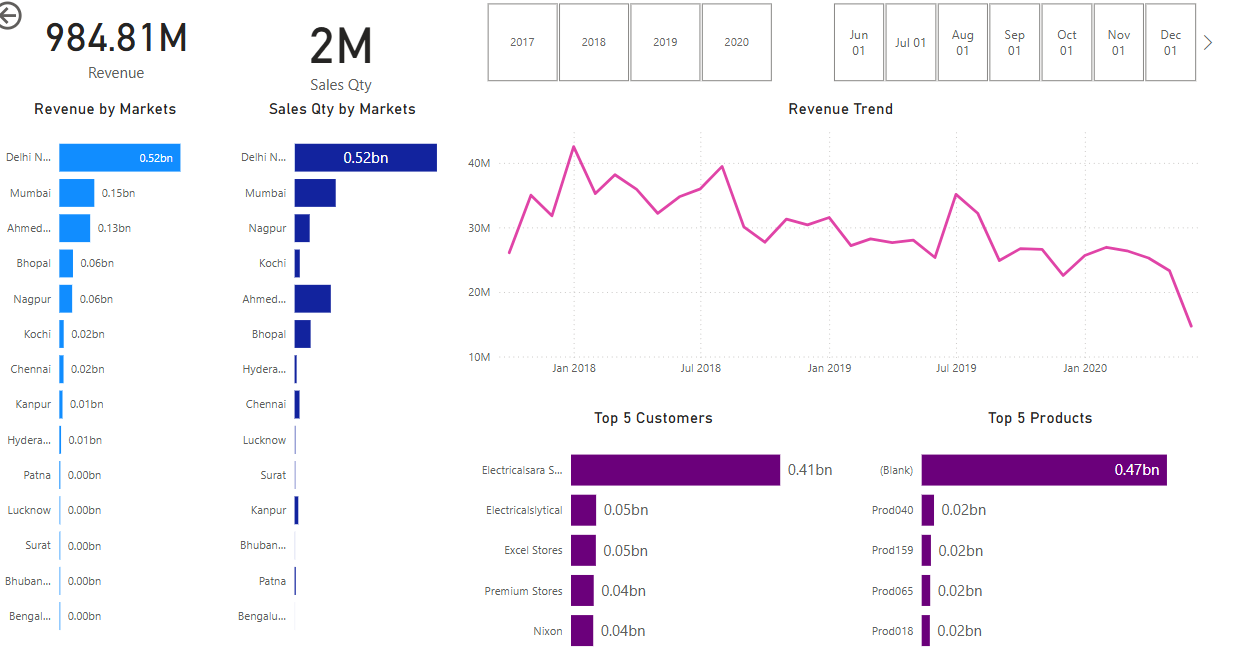

Layout of this report page (visuals, bound fields, positions):
{"tool":"powerbi","page":{"name":"Page 1","canvas":[1350,717],"ordinal":0},"visuals":[{"type":"card","fields":{"Values":["BaseMeasures.Revenue"]},"box":[0,0,271.4,97.1],"z":0},{"type":"card","fields":{"Values":["BaseMeasures.Sales Qty"]},"box":[246.7,0,258.3,110],"z":1000},{"type":"barChart","title":"Revenue by Markets","fields":{"Y":["BaseMeasures.Revenue"],"Category":["sales markets.markets_name"]},"box":[0,122,249,574.3],"z":2000},{"type":"barChart","title":"Sales Qty by Markets","fields":{"Y":["BaseMeasures.Sales Qty","BaseMeasures.Revenue"],"Category":["sales markets.markets_name"]},"box":[247.3,122,257.5,572.6],"z":3000},{"type":"actionButton","box":[0,0,100,40],"z":4000},{"type":"slicer","fields":{"Values":["sales date.cy_date"]},"box":[913.1,5.1,394.7,71.2],"z":5000},{"type":"slicer","fields":{"Values":["sales date.year"]},"box":[525.2,5.1,388,71.2],"z":6000},{"type":"barChart","title":"Top 5 Customers","fields":{"Y":["BaseMeasures.Revenue"],"Category":["sales customers.custmer_name"]},"box":[506.7,440,406.7,276.7],"z":7000},{"type":"barChart","title":"Top 5 Products","fields":{"Y":["BaseMeasures.Revenue"],"Category":["sales products.product_code"]},"box":[933.5,440.5,379.5,276.1],"z":8000},{"type":"lineChart","title":"Revenue Trend","fields":{"Y":["BaseMeasures.Revenue"],"Category":["sales date.cy_date"]},"box":[506.6,96.6,806.4,304.9],"z":9000}]}

Visuals, with their boxes in screenshot pixels (x1, y1, x2, y2), scaled from the page's 1350x717 canvas onto the 1245x649 screenshot:
card - BaseMeasures.Revenue: bbox=(0, 0, 250, 88)
card - BaseMeasures.Sales Qty: bbox=(228, 0, 466, 100)
"Revenue by Markets" barChart: bbox=(0, 110, 230, 630)
"Sales Qty by Markets" barChart: bbox=(228, 110, 466, 629)
actionButton: bbox=(0, 0, 92, 36)
slicer - sales date.cy_date: bbox=(842, 5, 1206, 69)
slicer - sales date.year: bbox=(484, 5, 842, 69)
"Top 5 Customers" barChart: bbox=(467, 398, 842, 648)
"Top 5 Products" barChart: bbox=(861, 399, 1211, 648)
"Revenue Trend" lineChart: bbox=(467, 87, 1211, 363)
